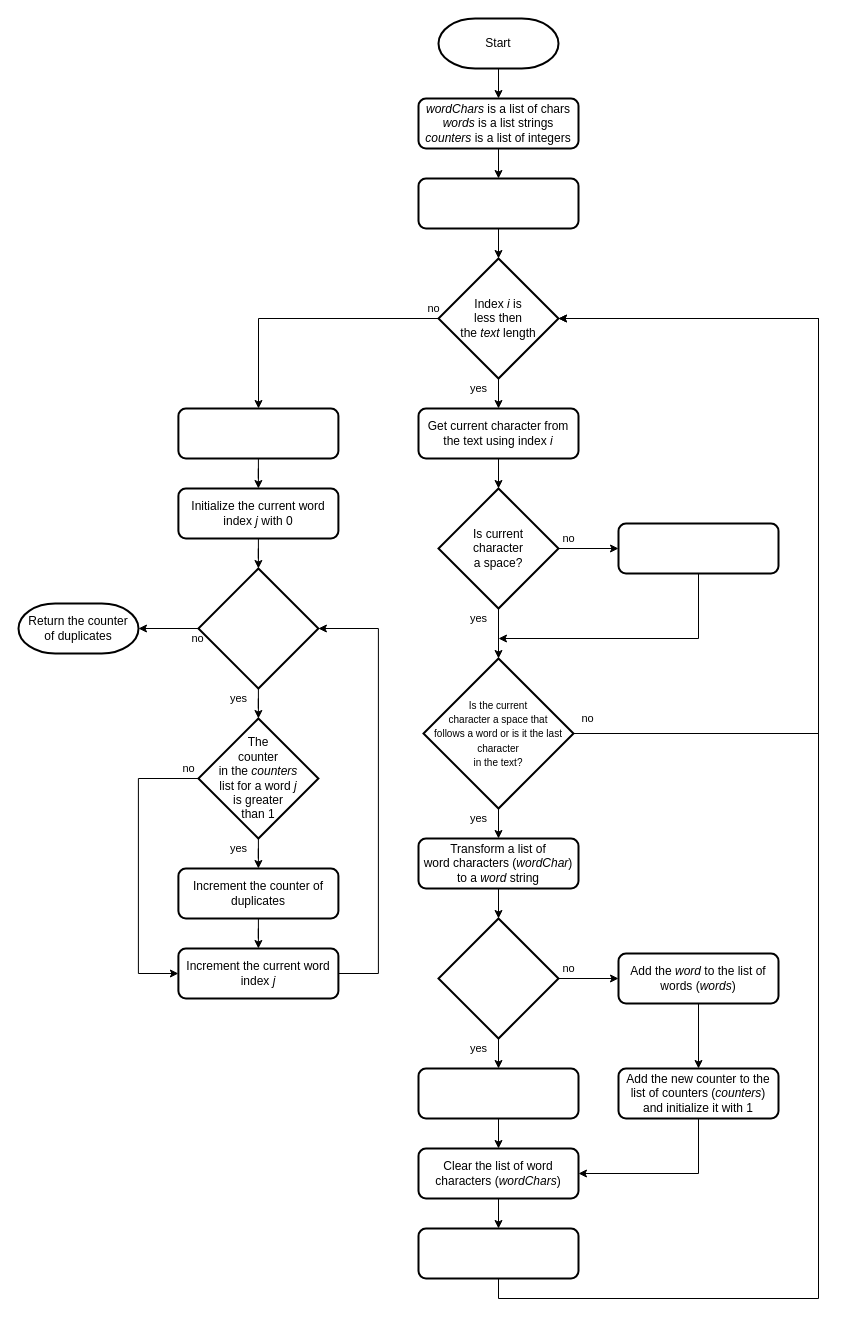
Some shapes in this 844 by 1324 pixel diagram are drawn without their labels. Each missing label, with the centre of its shape:
"Add the current character to the list of word characters ( wordChars )" belongs at point (698, 548).
"Does a list of words ( words ) has the word ?" belongs at point (498, 978).
"Increment the the current character index i" belongs at point (498, 1253).
"Increment the word counter in the list of counters ( counters )" belongs at point (498, 1093).
"Index j is less then the number of words" belongs at point (258, 628).
"Initialize the counter of duplicates with 0" belongs at point (258, 433).
"Initialize the current character index i with 0" belongs at point (498, 203).
